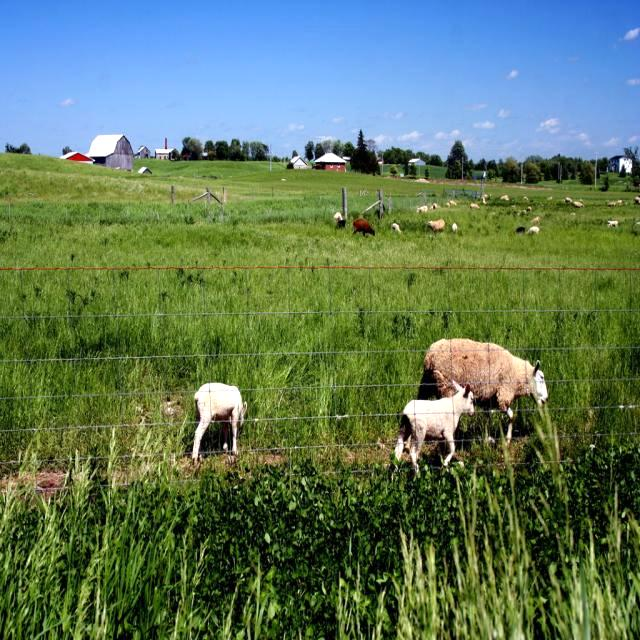sheep: (417, 339, 545, 420), (394, 379, 473, 471), (192, 383, 247, 460)
